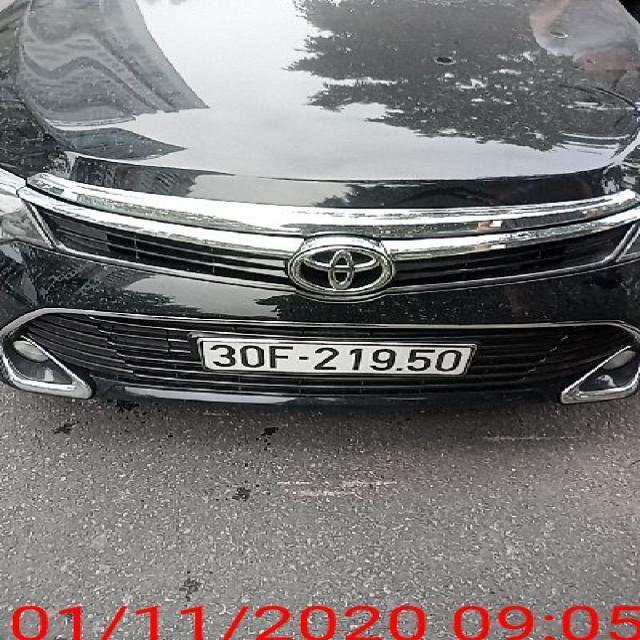bien_so_oto: (196, 337, 478, 377)
